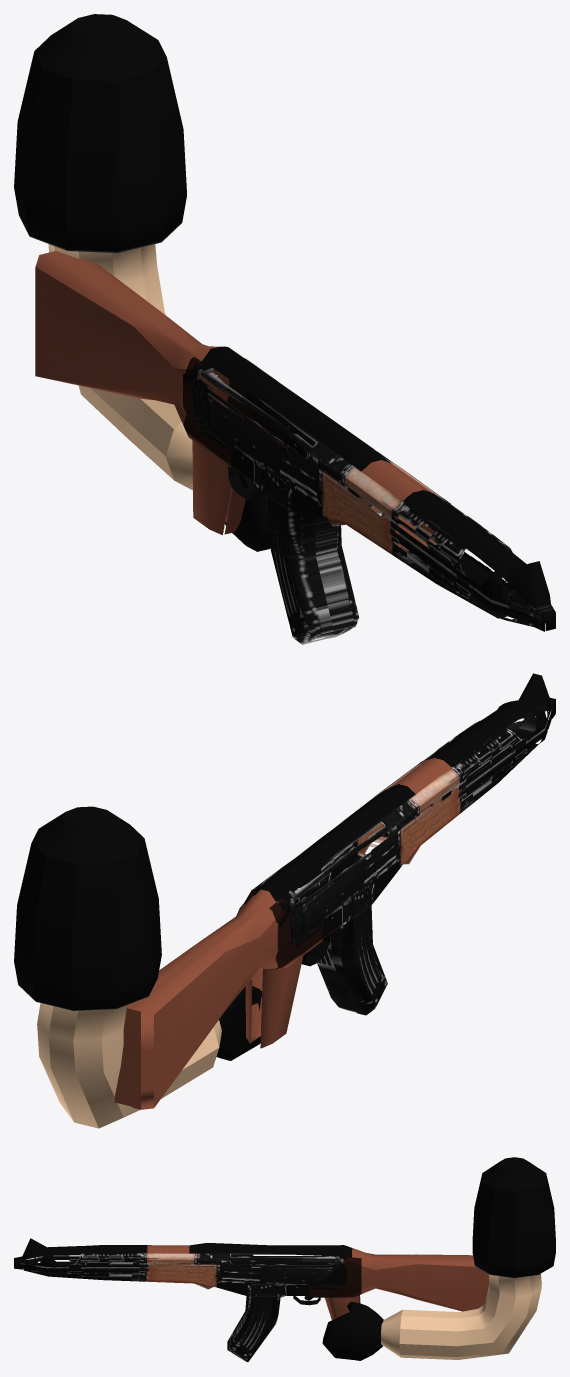
File: L_hands_rifle_b.obj
The picture shows the model from 3 angles, top to bottom: view 1: azimuth 30°, elevation 25°; view 2: azimuth 150°, elevation 25°; view 3: azimuth 270°, elevation 25°; orthographic projection. The views are drawn at different scales.
Visible parts, largest first — view 1: L pasted__pasted__pCube3, pCylinder4 group5 L, group5 L pasted__pCube3; view 2: L pasted__pasted__pCube3, pCylinder4 group5 L, group5 L pasted__pCube3; view 3: L pasted__pasted__pCube3, pCylinder4 group5 L, group5 L pasted__pCube3.
Part boxes in pixels (box(x1,y1,x2,y2)): L pasted__pasted__pCube3: box(35, 251, 555, 644); pCylinder4 group5 L: box(14, 14, 192, 490); group5 L pasted__pCube3: box(224, 486, 270, 551); L pasted__pasted__pCube3: box(114, 673, 555, 1109); pCylinder4 group5 L: box(14, 806, 221, 1128); group5 L pasted__pCube3: box(216, 986, 261, 1060); L pasted__pasted__pCube3: box(14, 1238, 489, 1362); pCylinder4 group5 L: box(381, 1157, 555, 1359); group5 L pasted__pCube3: box(322, 1301, 383, 1360).
Bounding box in the file's own units: 0.2246 × 0.5842 × 1.39.
1 material, 1 textured.
